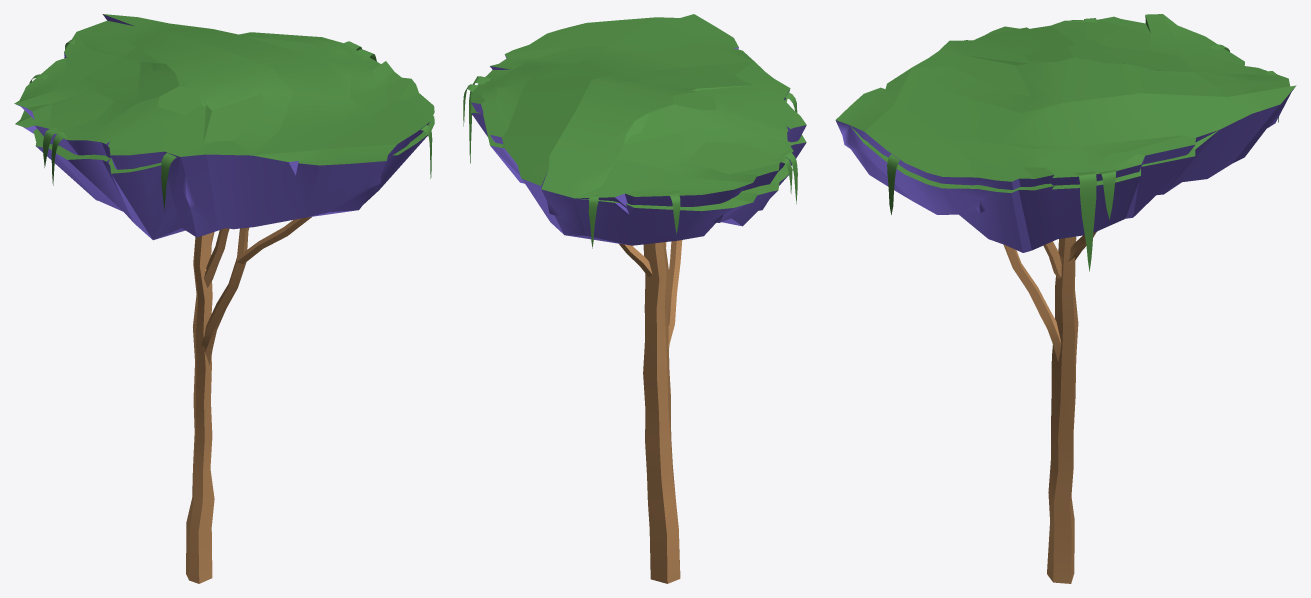
The model's file is tree_C_canopy_E_solo.fbx.
The picture shows the model from 3 angles, left to right: view 1: azimuth 30°, elevation 25°; view 2: azimuth 150°, elevation 25°; view 3: azimuth 270°, elevation 25°; orthographic projection. The views are drawn at different scales.
Parts seen in each view (by area): view 1: tree_C_canopy_E, tree_C_canopy_E_leveled, tree_C_canopy_E_trunk_A1, tree_C_canopy_E_trunk_C1, tree_C_canopy_E_trunk_I; view 2: tree_C_canopy_E, tree_C_canopy_E_leveled, tree_C_canopy_E_trunk_A1, tree_C_canopy_E_trunk_C1; view 3: tree_C_canopy_E, tree_C_canopy_E_leveled, tree_C_canopy_E_trunk_A1, tree_C_canopy_E_trunk_C1, tree_C_canopy_E_liana_A.
Boxes of the visible parts, <box> form: tree_C_canopy_E: <box>14,14,434,240</box>; tree_C_canopy_E_leveled: <box>15,32,434,239</box>; tree_C_canopy_E_trunk_A1: <box>186,233,214,583</box>; tree_C_canopy_E_trunk_C1: <box>200,217,311,365</box>; tree_C_canopy_E_trunk_I: <box>204,228,229,287</box>; tree_C_canopy_E: <box>471,14,806,245</box>; tree_C_canopy_E_leveled: <box>471,79,806,245</box>; tree_C_canopy_E_trunk_A1: <box>643,242,680,583</box>; tree_C_canopy_E_trunk_C1: <box>667,240,682,347</box>; tree_C_canopy_E: <box>835,14,1296,200</box>; tree_C_canopy_E_leveled: <box>850,55,1288,252</box>; tree_C_canopy_E_trunk_A1: <box>1047,236,1078,583</box>; tree_C_canopy_E_trunk_C1: <box>1003,244,1061,361</box>; tree_C_canopy_E_liana_A: <box>1074,171,1096,271</box>.
Size of the model in its own units: 340 by 484 by 394.
